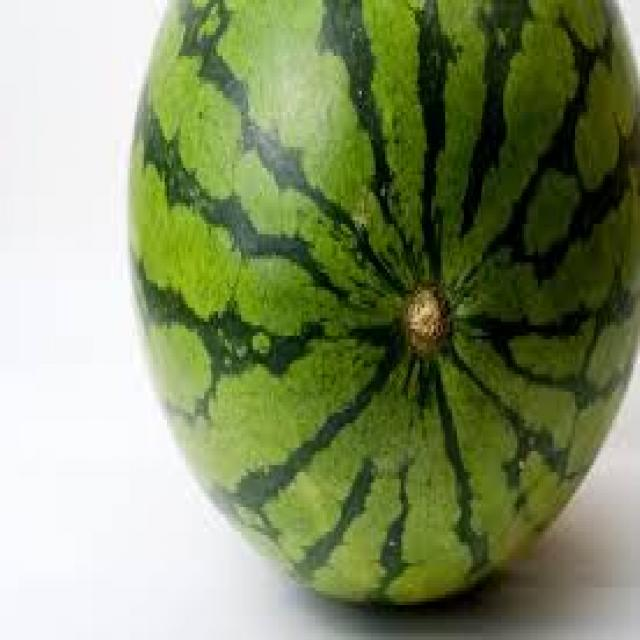organic waste: (125, 0, 638, 609)
